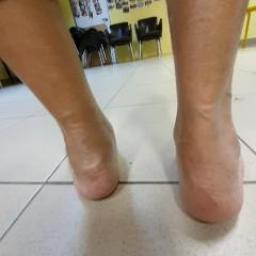Back View -Both Feet-: (16, 74, 251, 239)
